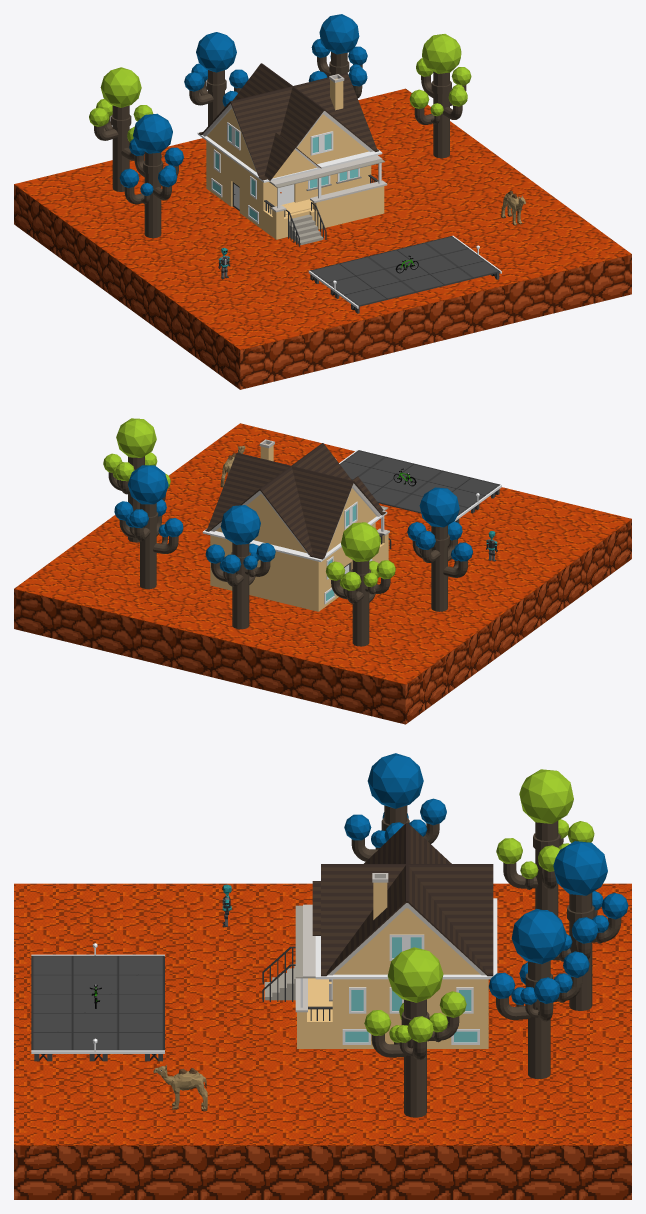
3 renders of one model, top to bottom at view 1: azimuth 30°, elevation 25°; view 2: azimuth 150°, elevation 25°; view 3: azimuth 270°, elevation 25°, orthographic. The views are drawn at different scales.
Parts seen in each view (by area): view 1: Cube.001, Cube.235, ANIMAL_CAMELLO; view 2: Cube.001, Cube.235; view 3: Cube.001, Cube.235, ANIMAL_CAMELLO.
Boxes of the visible parts, x1=… form: Cube.001: x1=14, y1=14, x2=631, y2=389; Cube.235: x1=197, y1=63, x2=387, y2=246; ANIMAL_CAMELLO: x1=501, y1=191, x2=525, y2=225; Cube.001: x1=14, y1=418, x2=631, y2=724; Cube.235: x1=202, y1=439, x2=391, y2=611; Cube.001: x1=14, y1=753, x2=631, y2=1199; Cube.235: x1=262, y1=823, x2=497, y2=1048; ANIMAL_CAMELLO: x1=153, y1=1064, x2=207, y2=1111.
Bounding box in the file's own units: 4000 × 1672 × 4000.
Materials: 35 (4 with a texture image).
